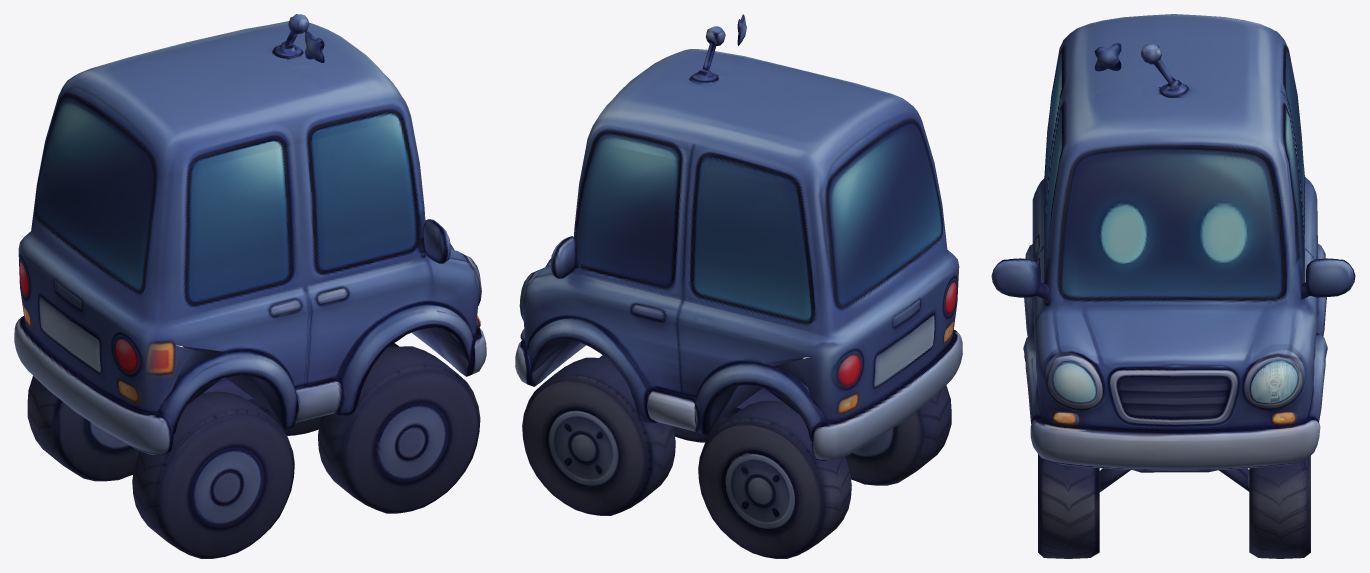
File: noah_car+3D.glb
The picture shows the model from 3 angles, left to right: view 1: azimuth 30°, elevation 25°; view 2: azimuth 150°, elevation 25°; view 3: azimuth 270°, elevation 25°; orthographic projection. The views are drawn at different scales.
Parts seen in each view (by area): view 1: tripo_node_9f15b68a-4019-4489-a4b2-284fec50527d; view 2: tripo_node_9f15b68a-4019-4489-a4b2-284fec50527d; view 3: tripo_node_9f15b68a-4019-4489-a4b2-284fec50527d.
Part boxes in pixels (left/top/right/bottom): tripo_node_9f15b68a-4019-4489-a4b2-284fec50527d: left=14, top=14, right=486, bottom=558; tripo_node_9f15b68a-4019-4489-a4b2-284fec50527d: left=515, top=14, right=962, bottom=558; tripo_node_9f15b68a-4019-4489-a4b2-284fec50527d: left=991, top=14, right=1355, bottom=558.
Size of the model in its own units: 0.8184 by 0.998 by 0.6895.
Materials: 1 (1 with a texture image).
